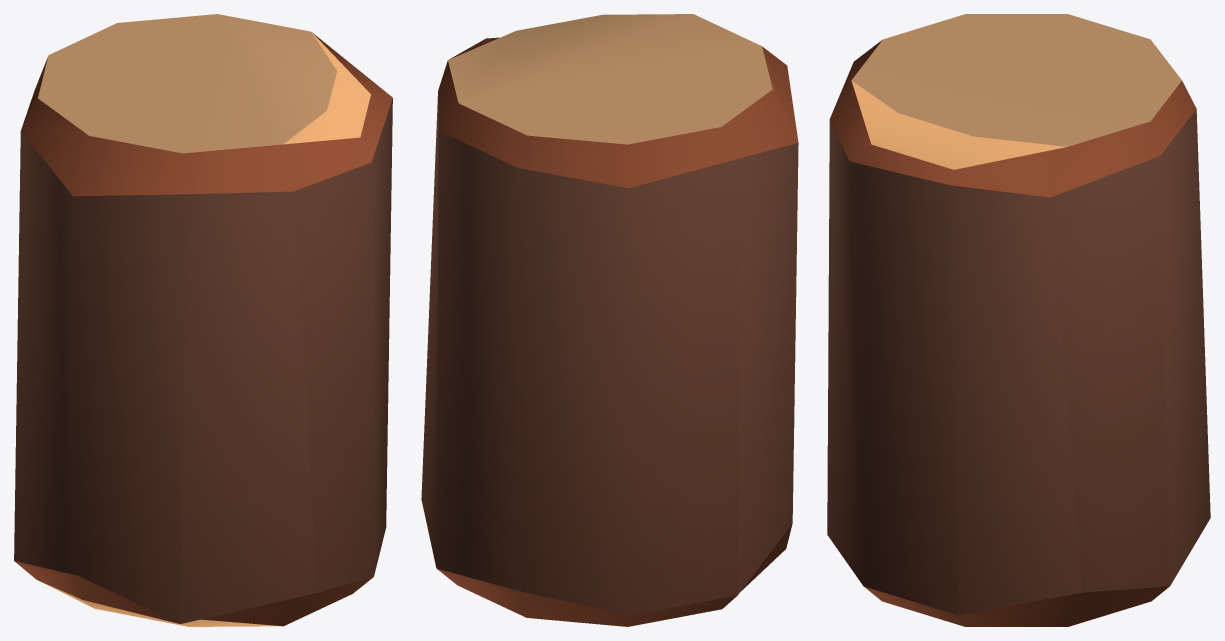
Rendered from Tree_farm_1.fbx.
The picture shows the model from 3 angles, left to right: view 1: azimuth 30°, elevation 25°; view 2: azimuth 150°, elevation 25°; view 3: azimuth 270°, elevation 25°; orthographic projection.
Visible parts, largest first — view 1: Tree_farm_1; view 2: Tree_farm_1; view 3: Tree_farm_1.
Boxes of the visible parts, left/top/right/bottom form: Tree_farm_1: left=14, top=14, right=392, bottom=626; Tree_farm_1: left=421, top=14, right=798, bottom=626; Tree_farm_1: left=827, top=14, right=1210, bottom=626.
Size of the model in its own units: 0.4551 by 0.4799 by 0.6624.
